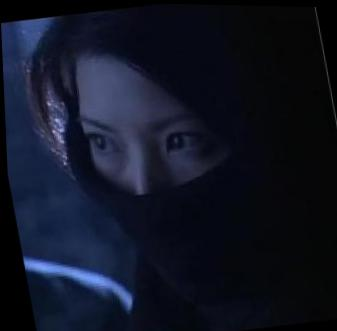WRONG: (70, 74, 257, 289)
